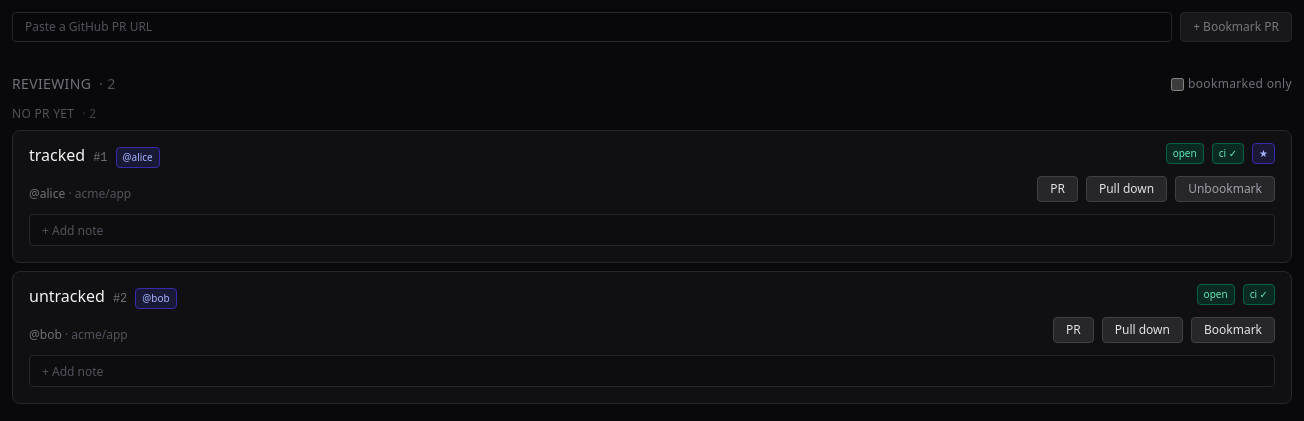
Scenario: WorkspaceBuckets › bookmarked-only filter hides non-bookmarked reviewing rows
expect the link "untracked" is shown: met, box x1=29 y1=284 x2=105 y2=308
Click the checkbox labelled "bookmarked only" at (1178, 84), box x1=1171 y1=78 x2=1184 y2=90
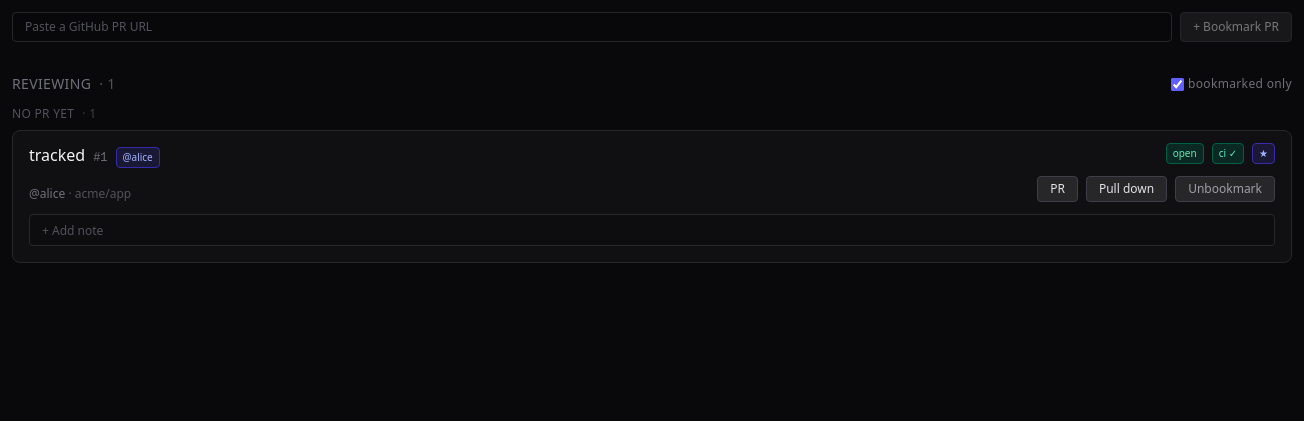
expect the link "tracked" is shown: met, box x1=29 y1=143 x2=85 y2=167
expect the link "untracked" is gone: met
